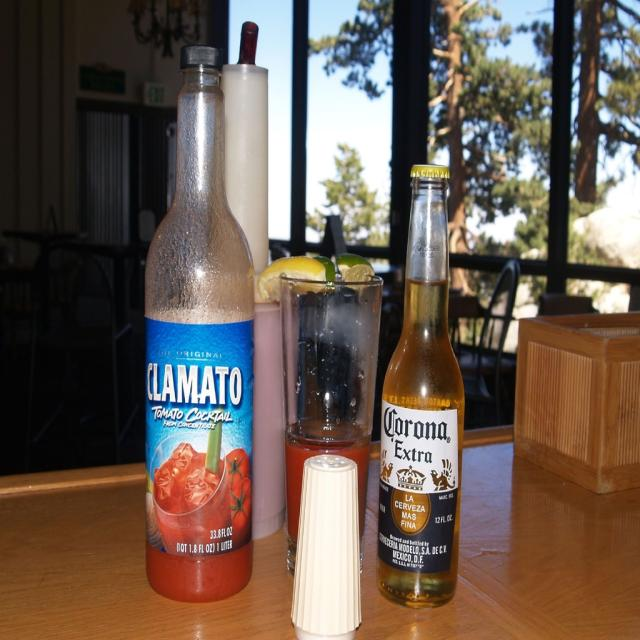corona: (379, 401, 460, 574)
